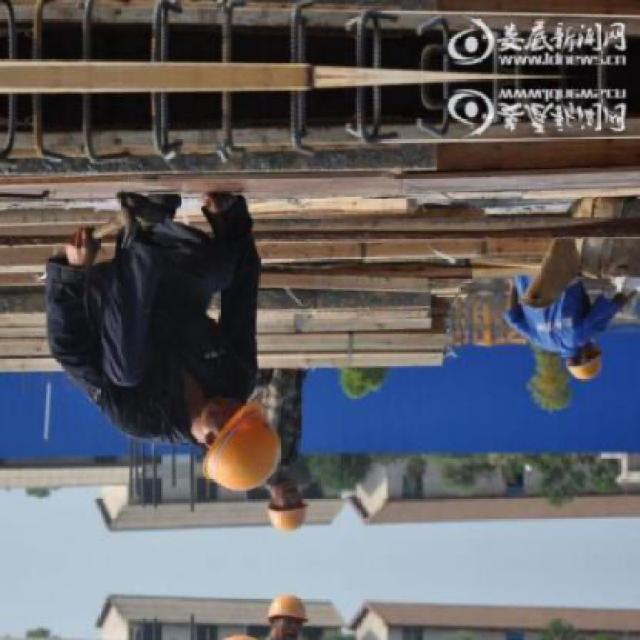con casco: (150, 375, 274, 485), (248, 448, 328, 536), (541, 339, 636, 391)
